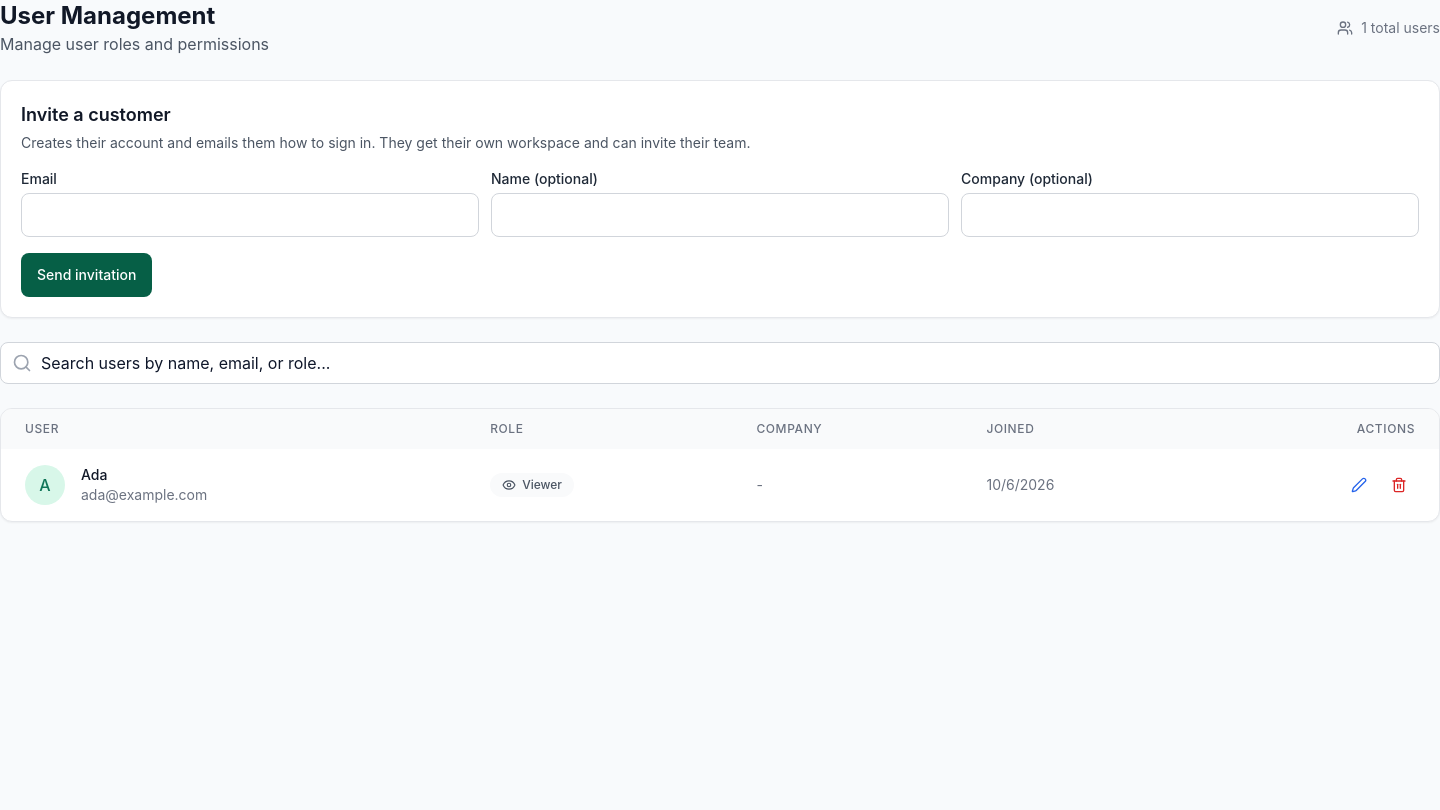
Test: admin user management delete confirmation › uses the shared dialog with the Delete User label and only deletes on confirm
Click the button named "Delete user": click(1399, 485) x1=1383 y1=469 x2=1415 y2=501
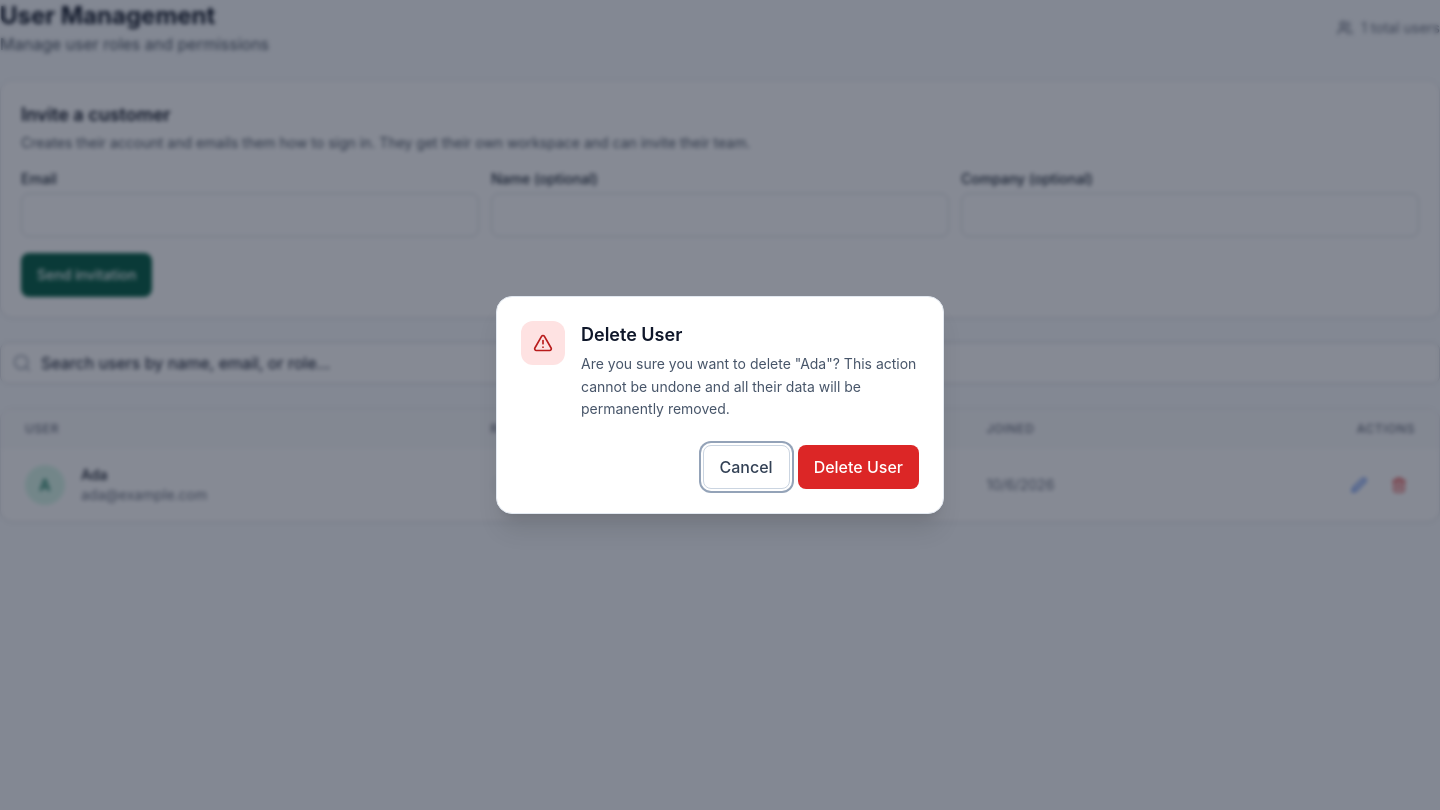
Expected: the dialog "Delete User" is shown, x1=496 y1=296 x2=944 y2=514
Click the button "Cancel": click(746, 467) x1=702 y1=445 x2=790 y2=489
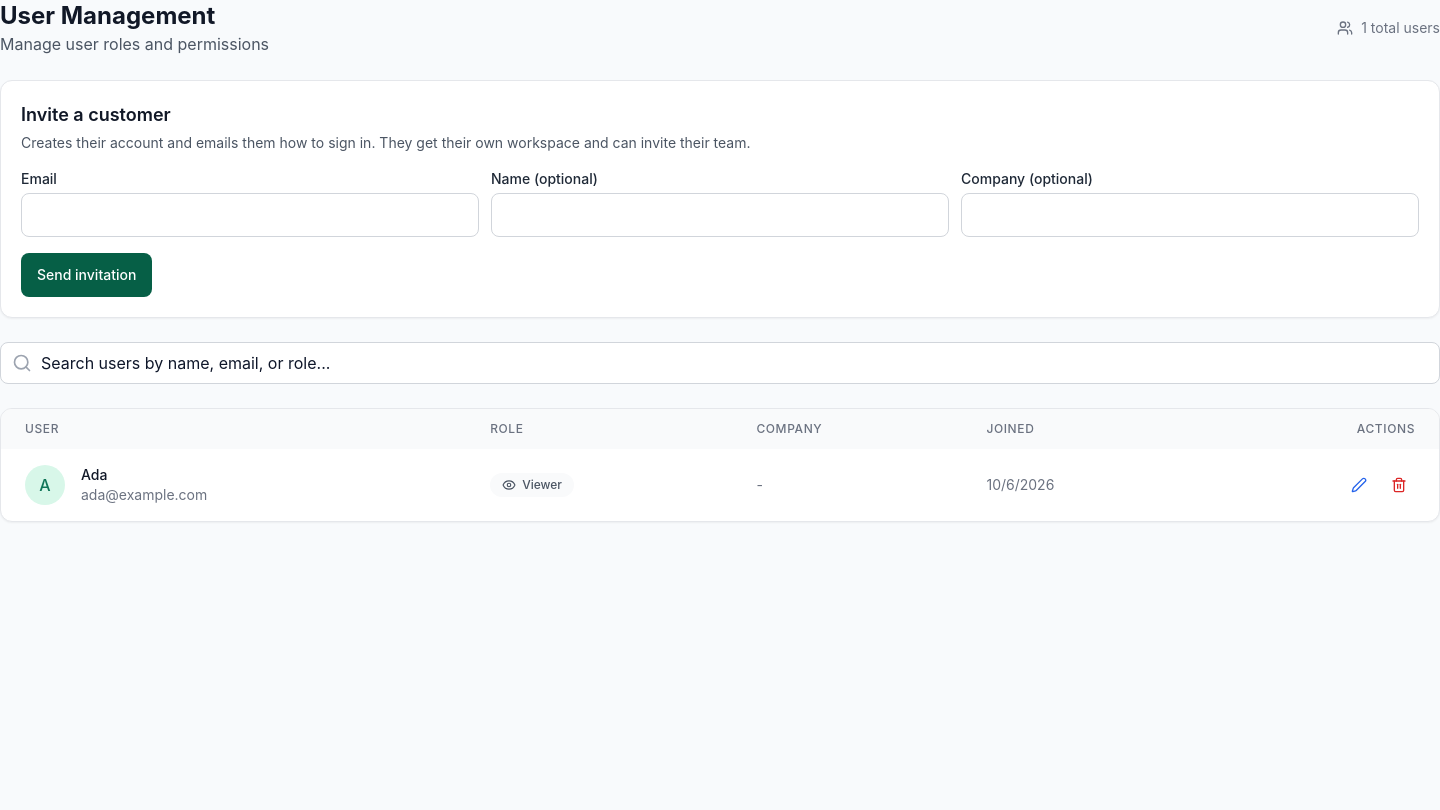
Expected: the dialog is gone
Click the button named "Delete user": click(1399, 485) x1=1383 y1=469 x2=1415 y2=501
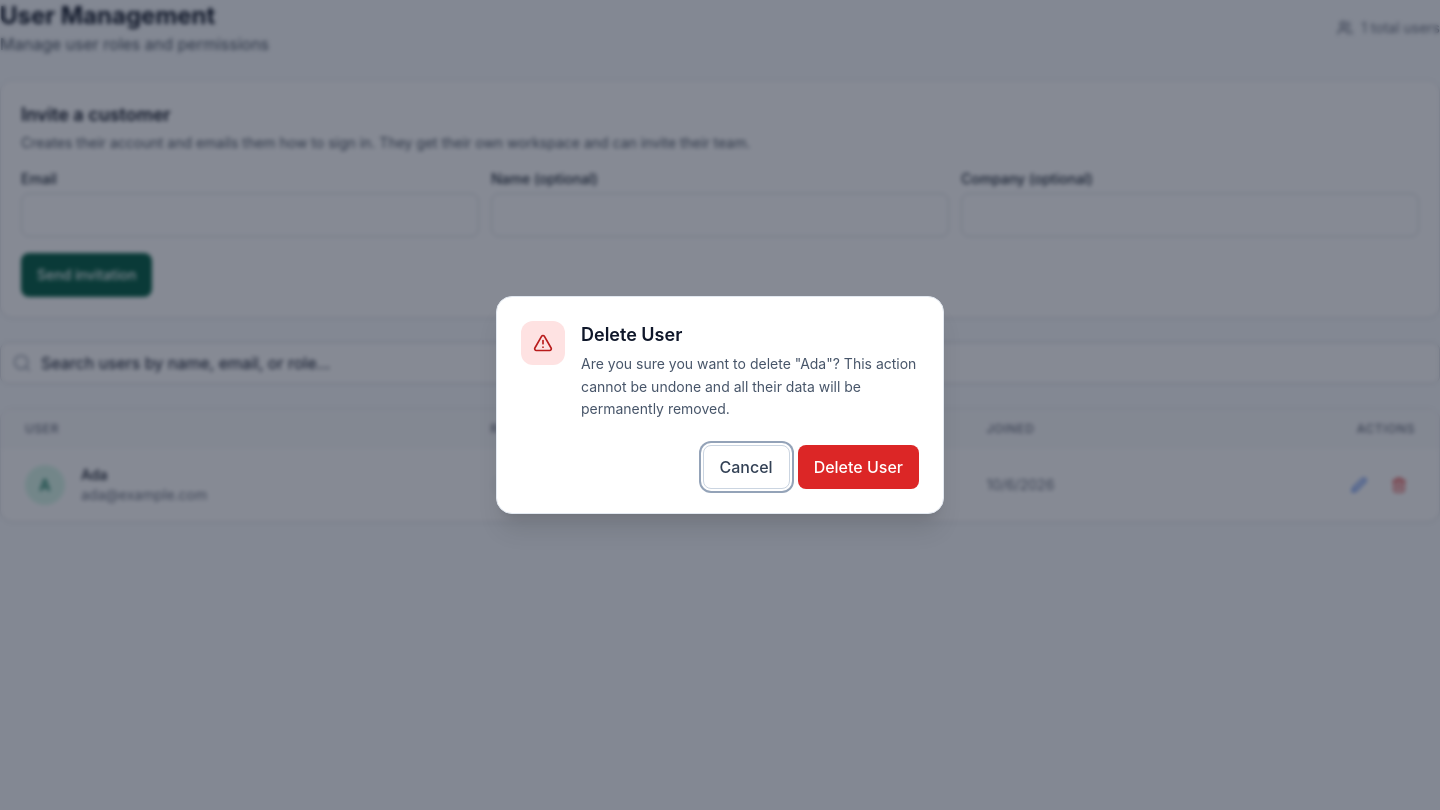
Expected: the dialog is shown, x1=496 y1=296 x2=944 y2=514
Click the button "Delete User": click(858, 467) x1=798 y1=445 x2=919 y2=489
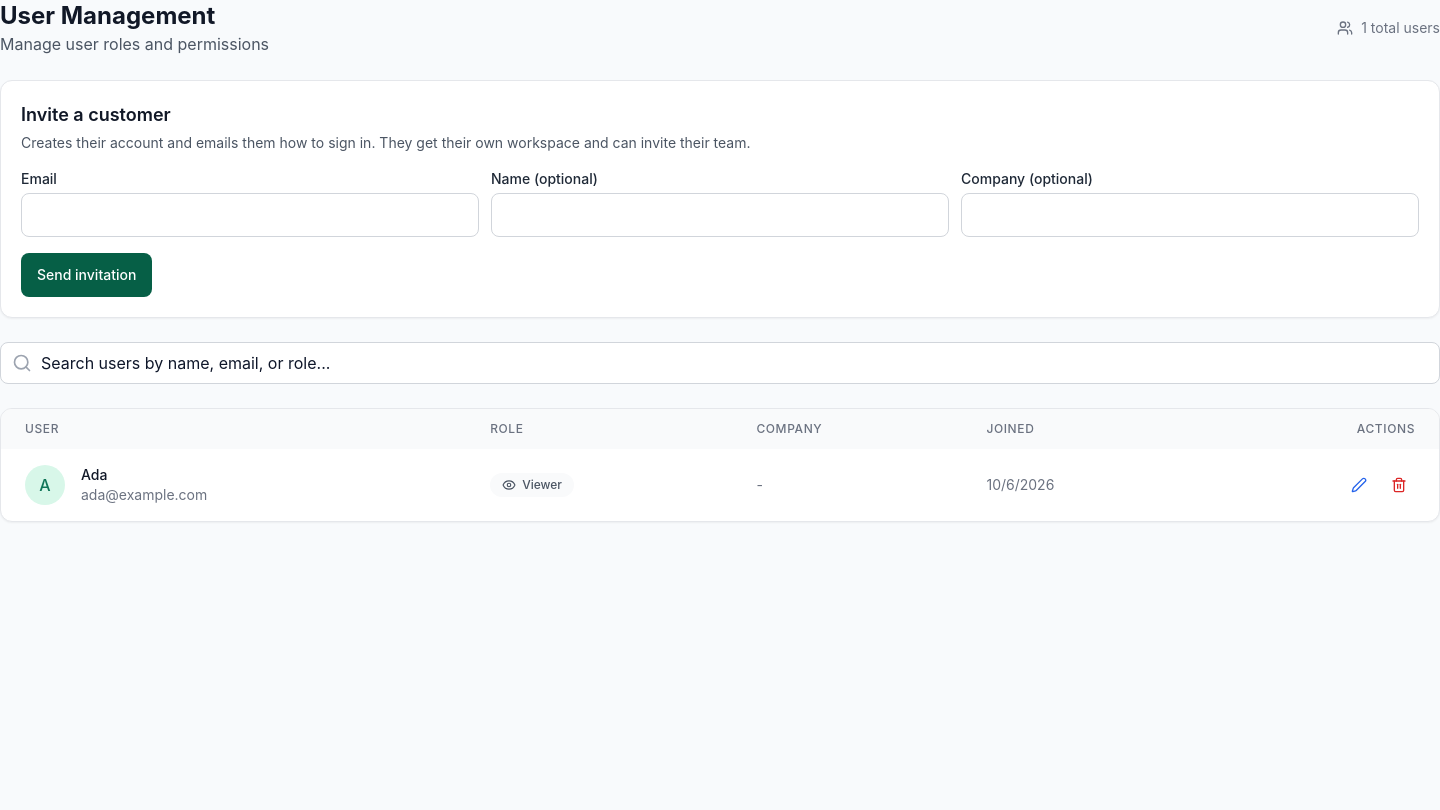
Expected: the dialog is gone
